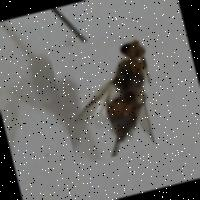Oriental-fruit-fly: (48, 24, 184, 165)
